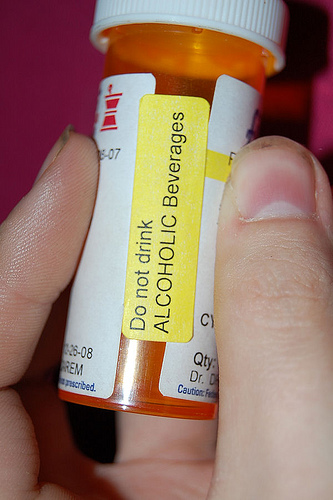pill bottle: (63, 2, 286, 420)
